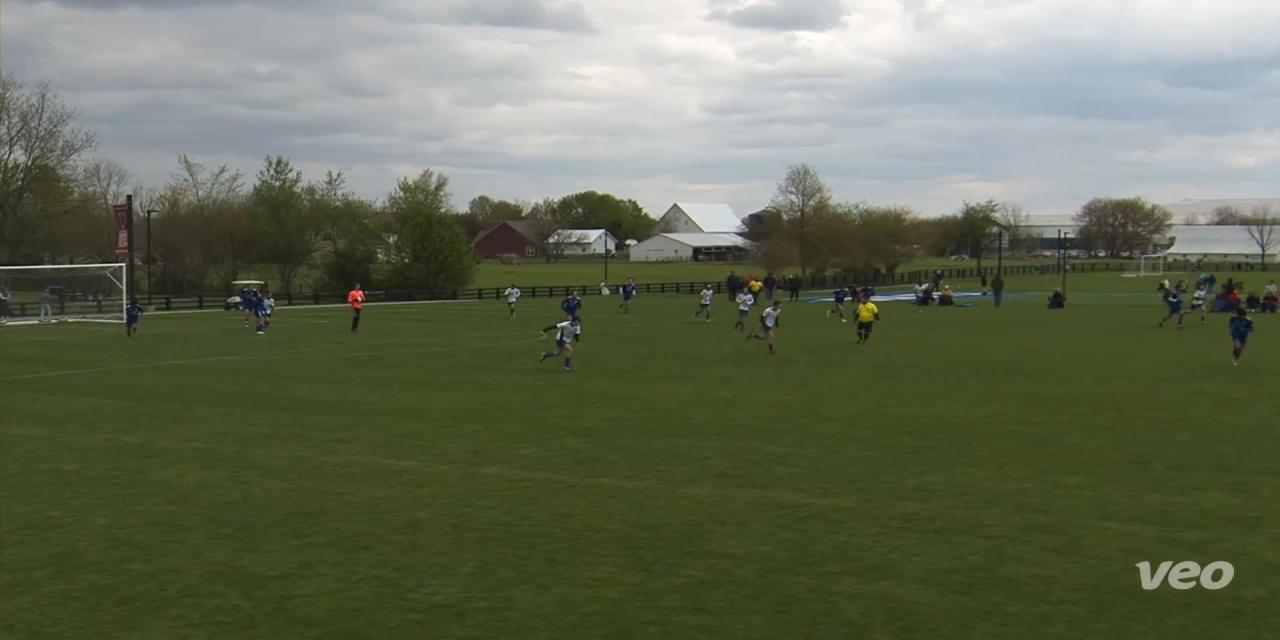goal: (0, 257, 137, 340)
